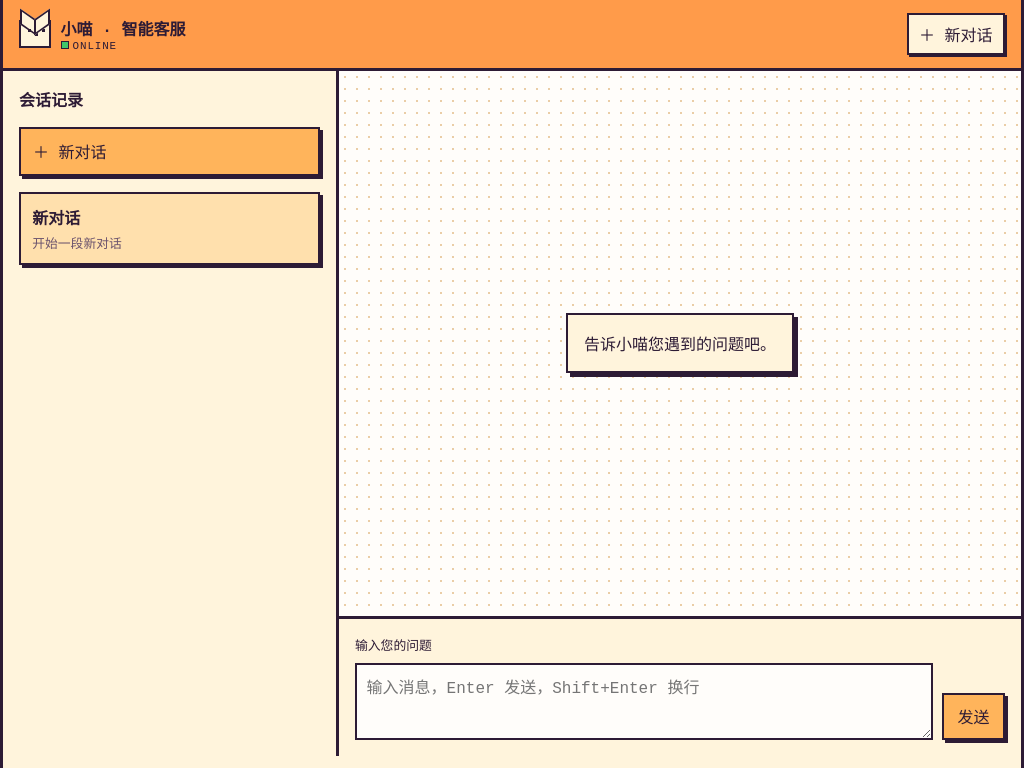
Scenario: App › grows one assistant bubble as deltas arrive and re-enables sending on DONE
Step 1. Type "订单未发货" into the text box labelled "输入您的问题" → (644, 701), box [355,663,933,740]
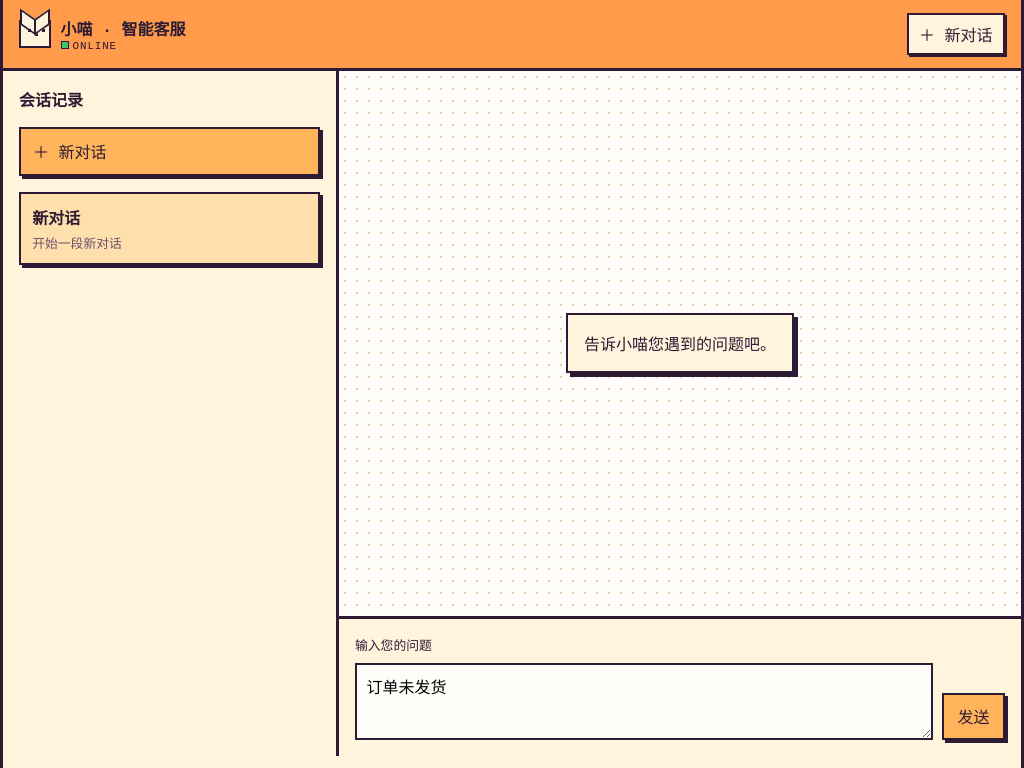
Step 2. Submit the form, box [339,616,1021,756]
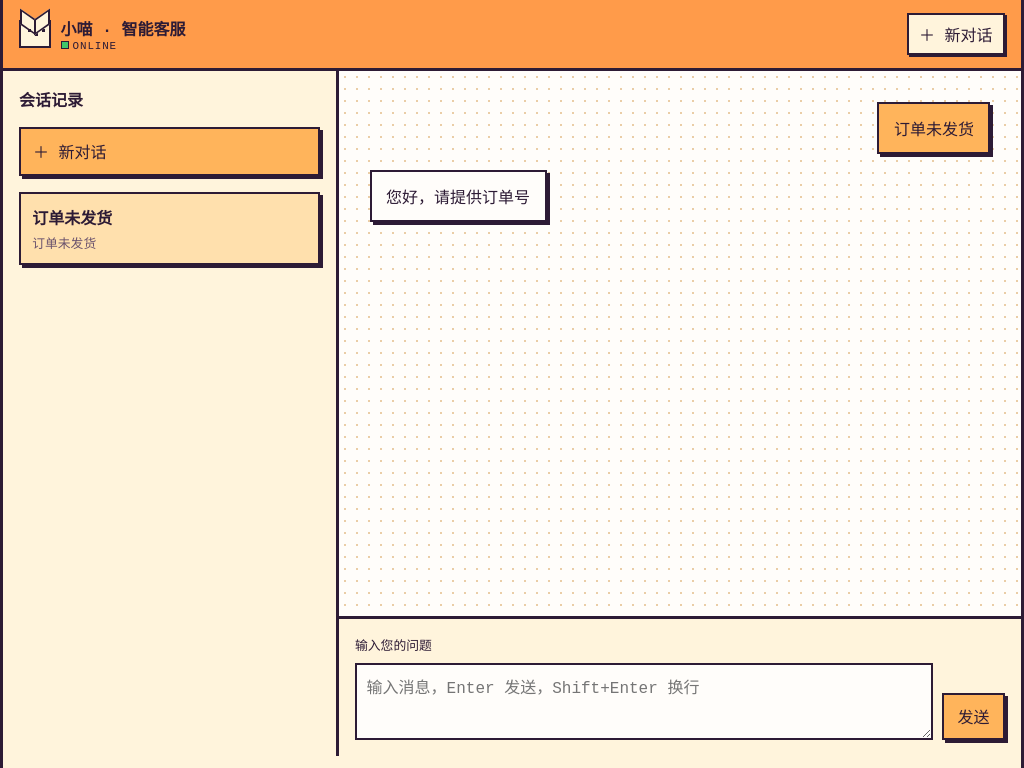
Check: the submit button is enabled, box [942,693,1005,740]
Check: the number of elements named "客服消息" is 1, box [370,170,546,222]
Check: the text "您好，请提供订单号" is shown, box [386,184,530,208]
